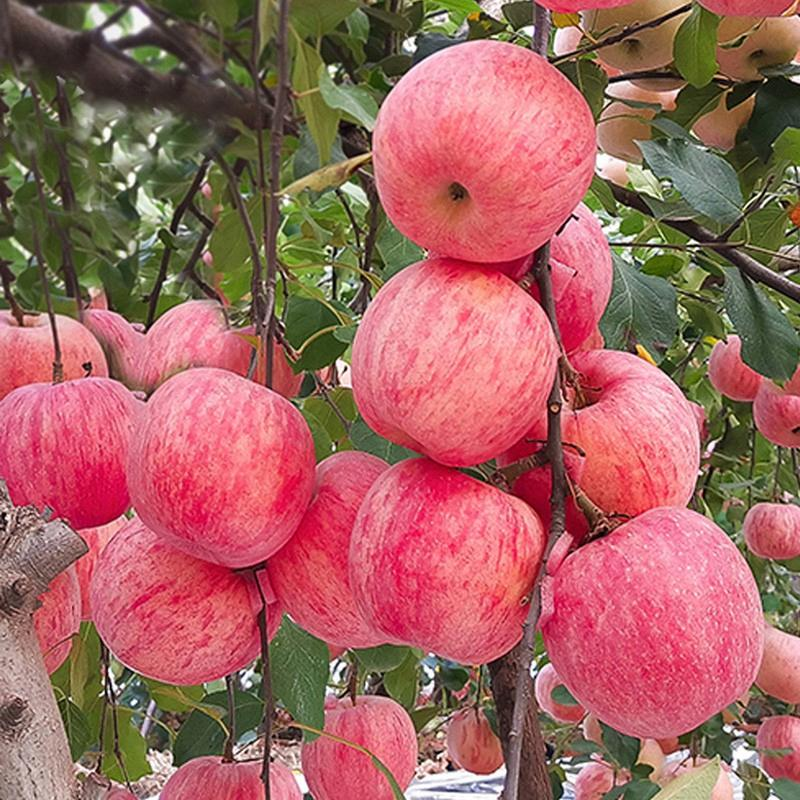ripe: (353, 41, 606, 267), (543, 504, 776, 743), (345, 265, 580, 469), (347, 451, 545, 669), (133, 363, 329, 563), (276, 443, 420, 655), (0, 361, 139, 535), (298, 696, 427, 800)
unripe: (78, 529, 294, 686), (586, 0, 696, 92), (708, 2, 796, 82)
